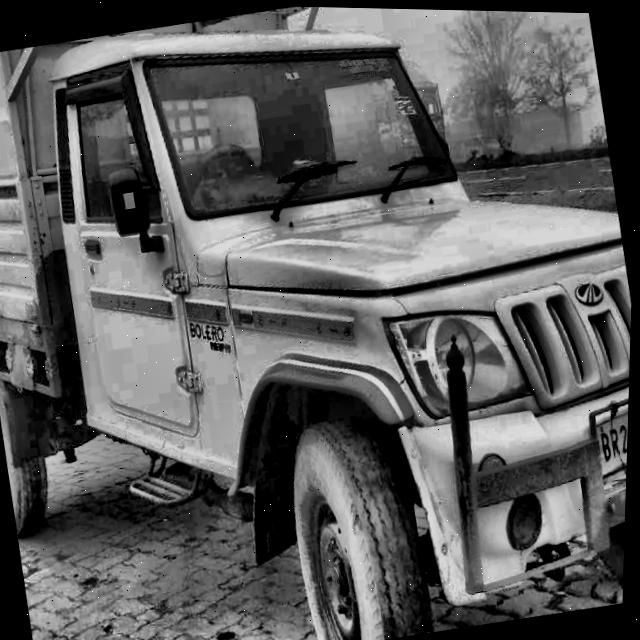light_vehicle: (0, 0, 640, 603)
